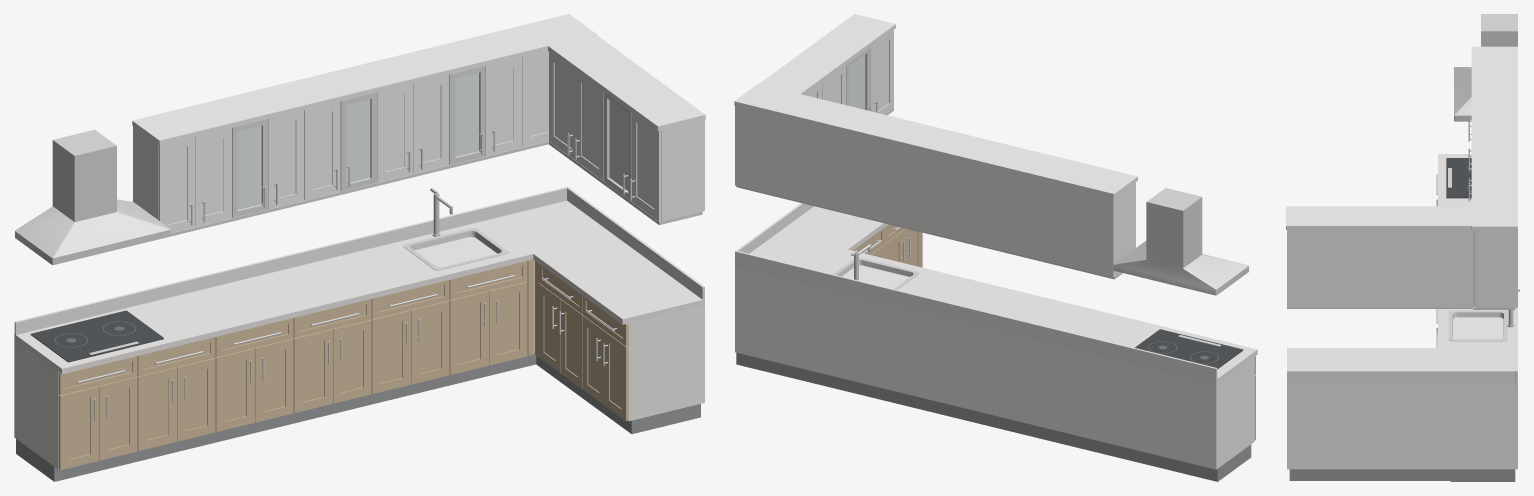
The picture shows the model from 3 angles, left to right: view 1: azimuth 30°, elevation 25°; view 2: azimuth 150°, elevation 25°; view 3: azimuth 270°, elevation 25°; orthographic projection. The views are drawn at different scales.
Visible parts, largest first — view 1: Tủ bếp chữ L Dài cạnh chính=4200; Dài cạnh phụ=1800; Sâu tủ ; view 2: Tủ bếp chữ L Dài cạnh chính=4200; Dài cạnh phụ=1800; Sâu tủ ; view 3: Tủ bếp chữ L Dài cạnh chính=4200; Dài cạnh phụ=1800; Sâu tủ .
Boxes of the visible parts, x1,y1,x2,y2 form: Tủ bếp chữ L Dài cạnh chính=4200; Dài cạnh phụ=1800; Sâu tủ : (14, 14, 705, 481); Tủ bếp chữ L Dài cạnh chính=4200; Dài cạnh phụ=1800; Sâu tủ : (734, 14, 1257, 481); Tủ bếp chữ L Dài cạnh chính=4200; Dài cạnh phụ=1800; Sâu tủ : (1286, 14, 1519, 481).
Bounding box in the file's own units: 4.21 × 2.2 × 1.82.
